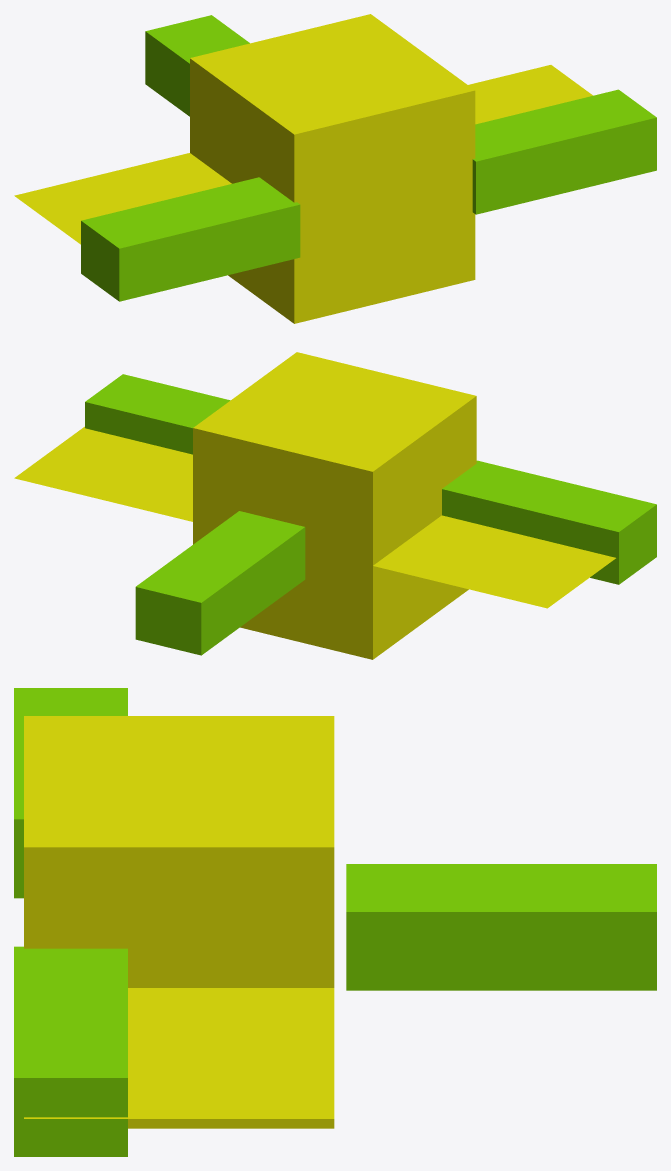
The model's file is SpaceShip.fbx.
3 renders of one model, top to bottom at view 1: azimuth 30°, elevation 25°; view 2: azimuth 150°, elevation 25°; view 3: azimuth 270°, elevation 25°, orthographic. The views are drawn at different scales.
Parts seen in each view (by area): view 1: pCube5; view 2: pCube5; view 3: pCube5.
Part boxes in pixels (left/top/right/bottom): pCube5: left=14, top=14, right=656, bottom=323; pCube5: left=14, top=352, right=656, bottom=659; pCube5: left=14, top=688, right=656, bottom=1156.
Size of the model in its own units: 2.98 by 1 by 2.07.
